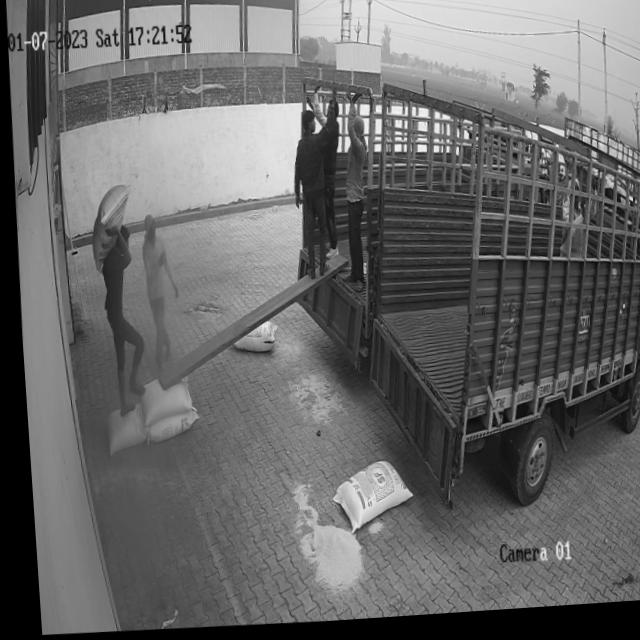sack: (323, 462, 408, 538), (84, 184, 130, 274), (132, 376, 186, 427), (99, 406, 141, 456), (140, 409, 192, 443), (227, 323, 273, 358)
